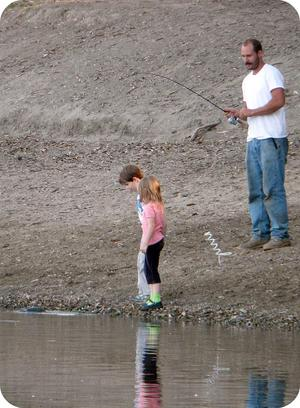person: (223, 38, 292, 250)
